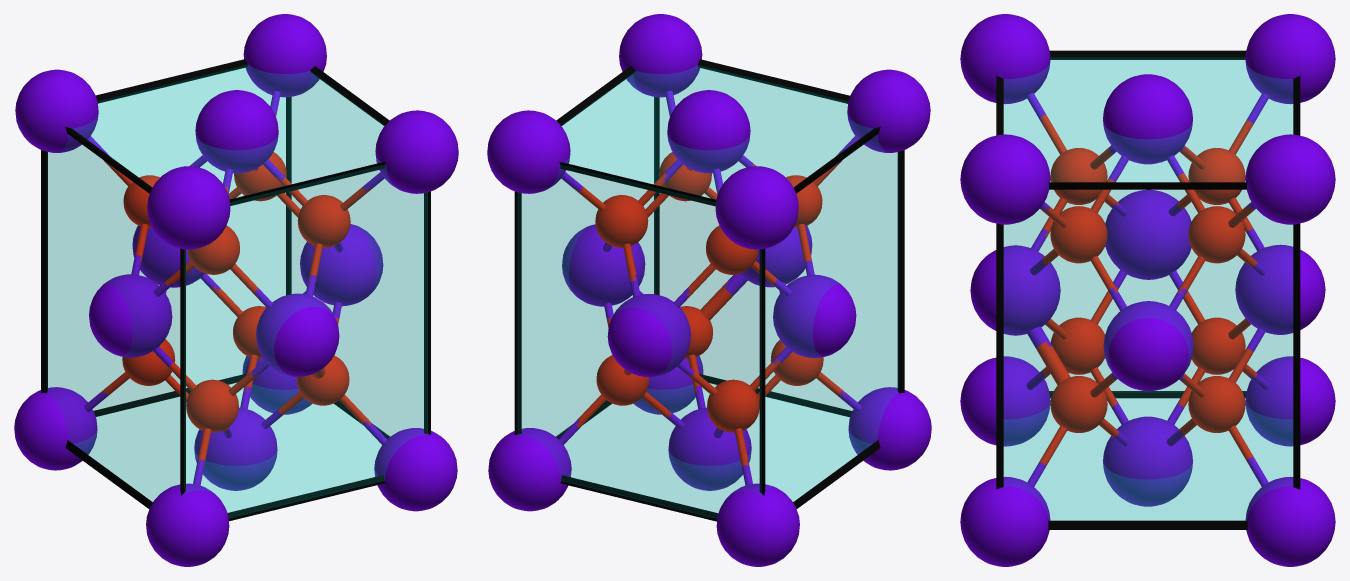
File: zirconia.glb
The picture shows the model from 3 angles, left to right: view 1: azimuth 30°, elevation 25°; view 2: azimuth 150°, elevation 25°; view 3: azimuth 270°, elevation 25°; orthographic projection. The views are drawn at different scales.
Visible parts, largest first — view 1: Cube.001, Cube, Sphere.001, Sphere.017, Sphere, Sphere.022, Sphere.021, Sphere.004, Sphere.018, Sphere.002, Sphere.003, Sphere.020 (+12 smaller); view 2: Cube.001, Cube, Sphere.002, Sphere.024, Sphere, Sphere.003, Sphere.020, Sphere.004, Sphere.019, Sphere.001, Sphere.022, Sphere.021 (+12 smaller); view 3: Cube.001, Cube, Sphere.023, Sphere, Sphere.003, Sphere.022, Sphere.018, Sphere.019, Sphere.002, Sphere.001, Sphere.009, Sphere.004 (+13 smaller).
Boxes of the visible parts, x1=… form: Cube.001: x1=47, y1=65, x2=427, y2=517; Cube: x1=41, y1=59, x2=430, y2=521; Sphere.001: x1=147, y1=166, x2=230, y2=249; Sphere.017: x1=256, y1=293, x2=339, y2=376; Sphere: x1=195, y1=90, x2=278, y2=173; Sphere.022: x1=375, y1=110, x2=458, y2=193; Sphere.021: x1=146, y1=483, x2=229, y2=566; Sphere.004: x1=89, y1=274, x2=172, y2=357; Sphere.018: x1=374, y1=428, x2=457, y2=511; Sphere.002: x1=15, y1=69, x2=98, y2=152; Sphere.003: x1=243, y1=14, x2=326, y2=97; Sphere.020: x1=14, y1=387, x2=97, y2=470; Cube.001: x1=518, y1=65, x2=897, y2=518; Cube: x1=514, y1=59, x2=904, y2=521; Sphere.002: x1=715, y1=166, x2=798, y2=249; Sphere.024: x1=607, y1=294, x2=690, y2=377; Sphere: x1=667, y1=90, x2=750, y2=173; Sphere.003: x1=487, y1=110, x2=570, y2=193; Sphere.020: x1=716, y1=483, x2=799, y2=566; Sphere.004: x1=773, y1=274, x2=856, y2=358; Sphere.019: x1=488, y1=428, x2=571, y2=511; Sphere.001: x1=847, y1=69, x2=930, y2=152; Sphere.022: x1=619, y1=14, x2=702, y2=97; Sphere.021: x1=848, y1=387, x2=931, y2=470; Cube.001: x1=1004, y1=57, x2=1292, y2=520; Cube: x1=996, y1=50, x2=1300, y2=529; Sphere.023: x1=1103, y1=301, x2=1193, y2=391; Sphere: x1=1103, y1=74, x2=1192, y2=164; Sphere.003: x1=1245, y1=134, x2=1335, y2=224; Sphere.022: x1=960, y1=134, x2=1050, y2=224; Sphere.018: x1=960, y1=476, x2=1050, y2=566; Sphere.019: x1=1245, y1=476, x2=1335, y2=566; Sphere.002: x1=1245, y1=14, x2=1335, y2=104; Sphere.001: x1=960, y1=14, x2=1050, y2=104; Sphere.009: x1=1103, y1=416, x2=1192, y2=506; Sphere.004: x1=1105, y1=189, x2=1191, y2=279.
Bounding box in the file's own units: 8.35 × 10.38 × 8.31.
